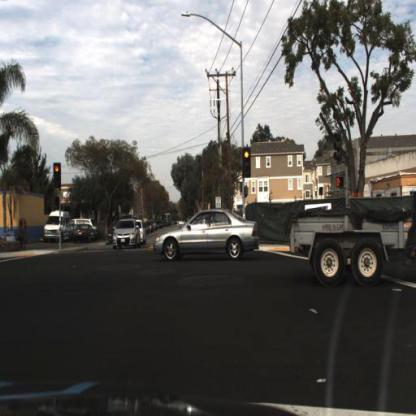car: (152, 208, 261, 264), (111, 216, 143, 252), (43, 210, 72, 243), (73, 222, 98, 246)
pedestrian: (17, 219, 29, 251)
trafficLight: (241, 145, 253, 178)
trafficLight-Red: (52, 164, 63, 194), (336, 176, 346, 192)
truck: (290, 190, 416, 292)
